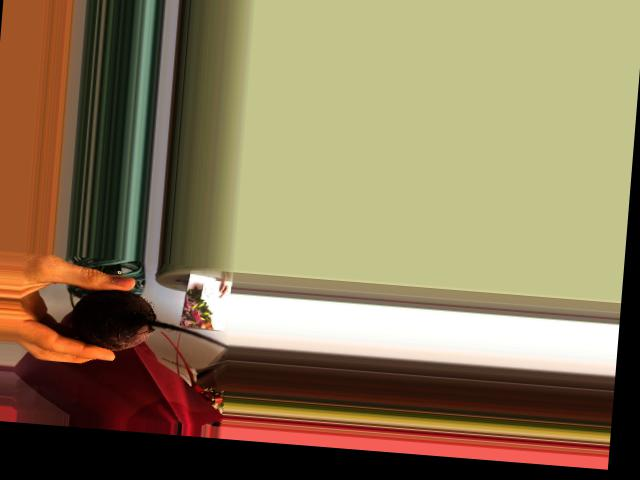beet: (67, 286, 233, 359)
